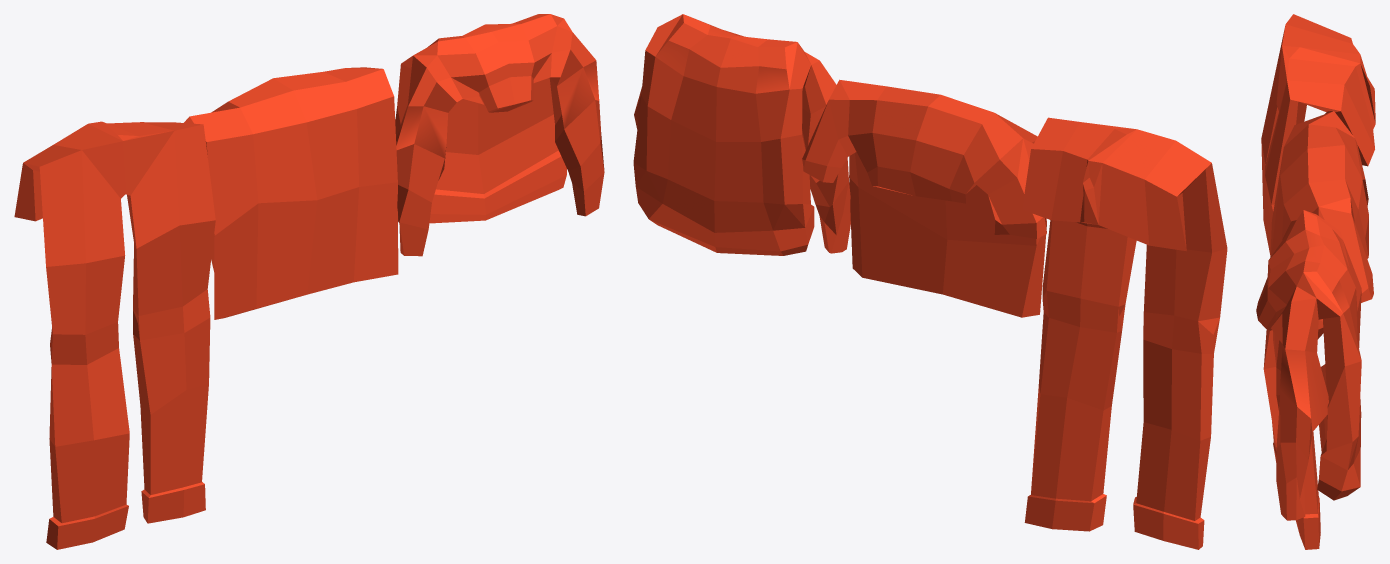
File: SM_Hanging_Clothes_Short_City.fbx
3 views of the same model, side by side, from view 1: azimuth 30°, elevation 25°; view 2: azimuth 150°, elevation 25°; view 3: azimuth 270°, elevation 25° (orthographic). The views are drawn at different scales.
Visible parts, largest first — view 1: SM_Hanging_Clothes_Short_City; view 2: SM_Hanging_Clothes_Short_City; view 3: SM_Hanging_Clothes_Short_City.
Part boxes in pixels (x1=…): SM_Hanging_Clothes_Short_City: x1=14, y1=14, x2=604, y2=549; SM_Hanging_Clothes_Short_City: x1=633, y1=14, x2=1227, y2=549; SM_Hanging_Clothes_Short_City: x1=1256, y1=14, x2=1375, y2=549.
Size of the model in its own units: 1.12 by 0.7819 by 0.1812.
